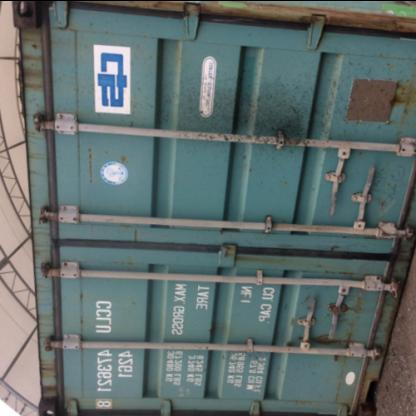Damage: (139, 87, 315, 159), (316, 52, 410, 139), (193, 6, 404, 32), (292, 280, 362, 358), (30, 244, 60, 404), (14, 0, 48, 130), (352, 167, 398, 217)
